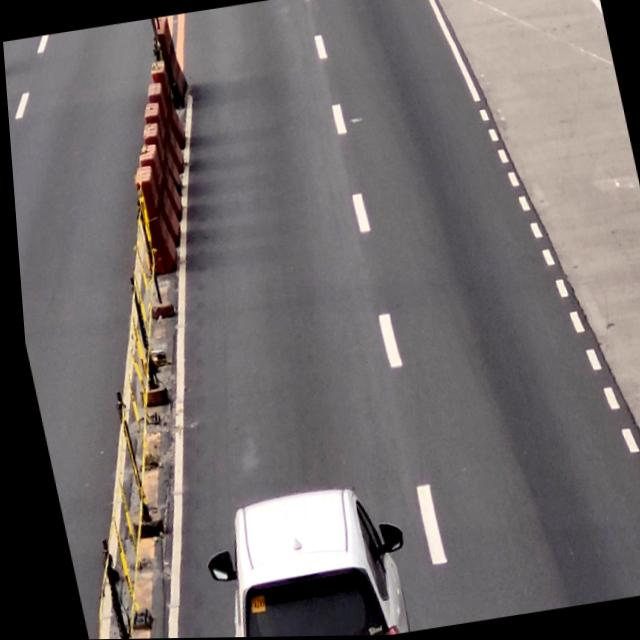Car: (204, 481, 396, 638)
